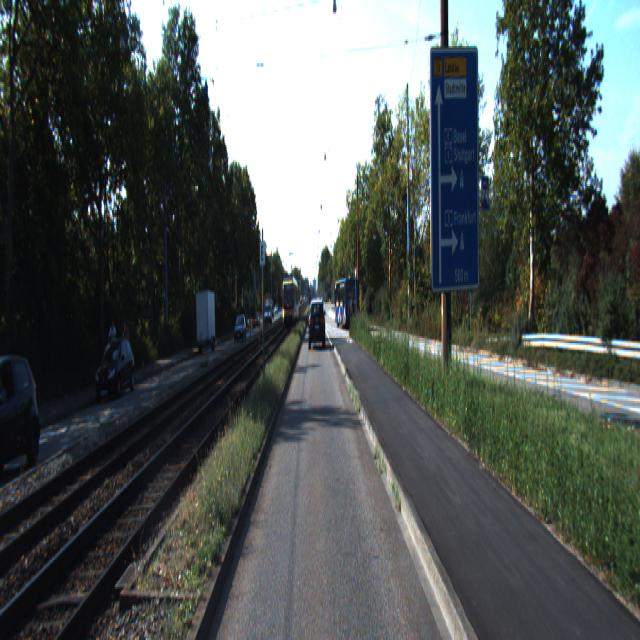Car: (0, 339, 51, 482), (94, 339, 137, 405), (334, 276, 360, 330), (195, 289, 216, 354), (309, 298, 325, 347), (233, 315, 247, 344)
